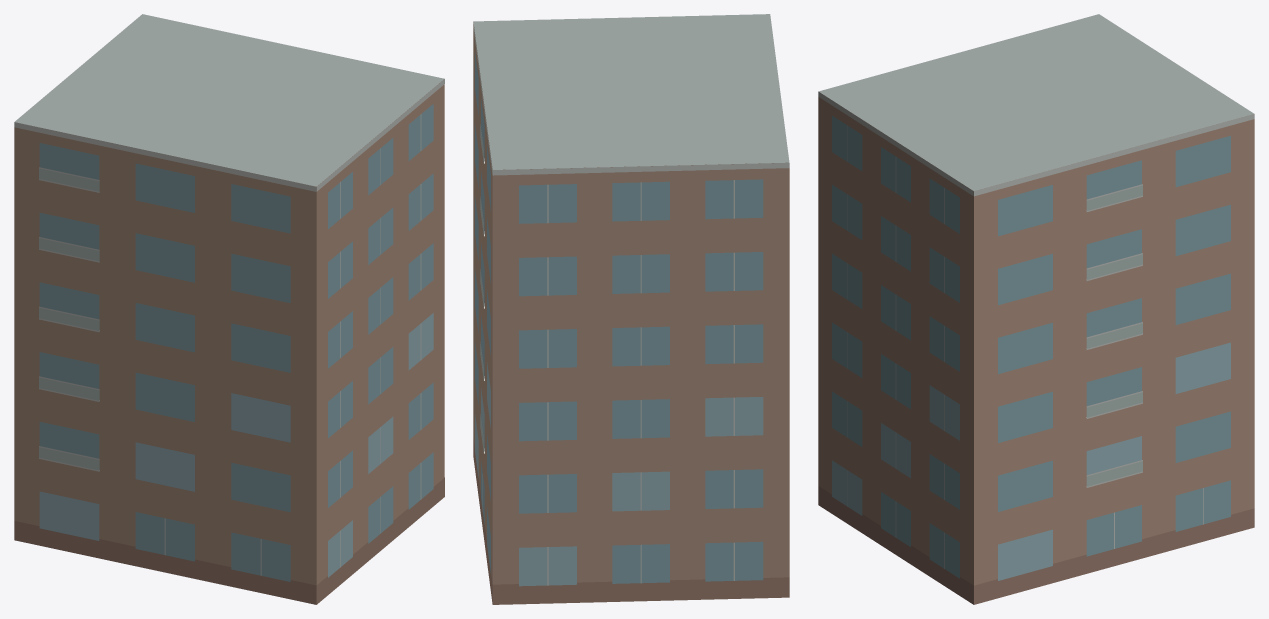
File: survey-upis-32729853.glb
3 renders of one model, left to right at view 1: azimuth 30°, elevation 25°; view 2: azimuth 150°, elevation 25°; view 3: azimuth 270°, elevation 25°, orthographic. The views are drawn at different scales.
Parts seen in each view (by area): view 1: survey-upis-32729853.tmp; view 2: survey-upis-32729853.tmp; view 3: survey-upis-32729853.tmp.
Boxes of the visible parts, <box> form: survey-upis-32729853.tmp: <box>14,14,444,604</box>; survey-upis-32729853.tmp: <box>473,14,789,604</box>; survey-upis-32729853.tmp: <box>818,14,1254,604</box>.
Size of the model in its own units: 17.84 by 19.4 by 18.55.
